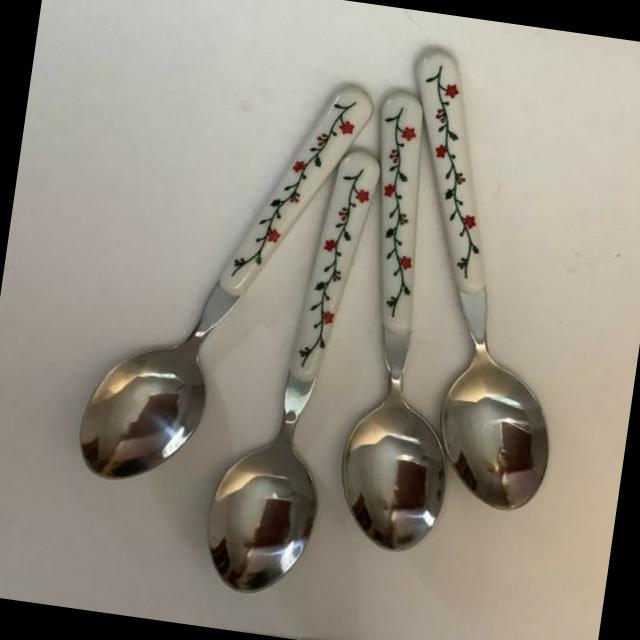spoon: (186, 127, 388, 608), (408, 40, 567, 537), (333, 84, 459, 566)
